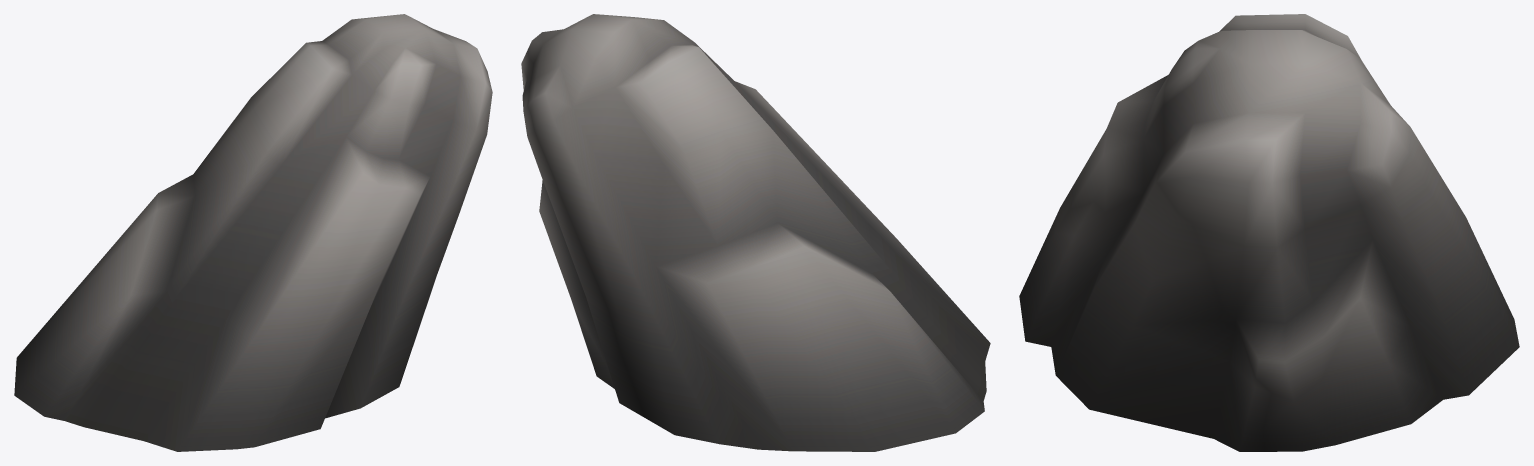
Rendered from m_Rock03_A.fbx.
The picture shows the model from 3 angles, left to right: view 1: azimuth 30°, elevation 25°; view 2: azimuth 150°, elevation 25°; view 3: azimuth 270°, elevation 25°; orthographic projection. The views are drawn at different scales.
Visible parts, largest first — view 1: m_Rock03_A; view 2: m_Rock03_A; view 3: m_Rock03_A.
Part boxes in pixels (x1,y1,x2,y2): m_Rock03_A: (14,14,492,451); m_Rock03_A: (521,14,990,451); m_Rock03_A: (1019,14,1519,451).
Size of the model in its own units: 757 by 489 by 541.
